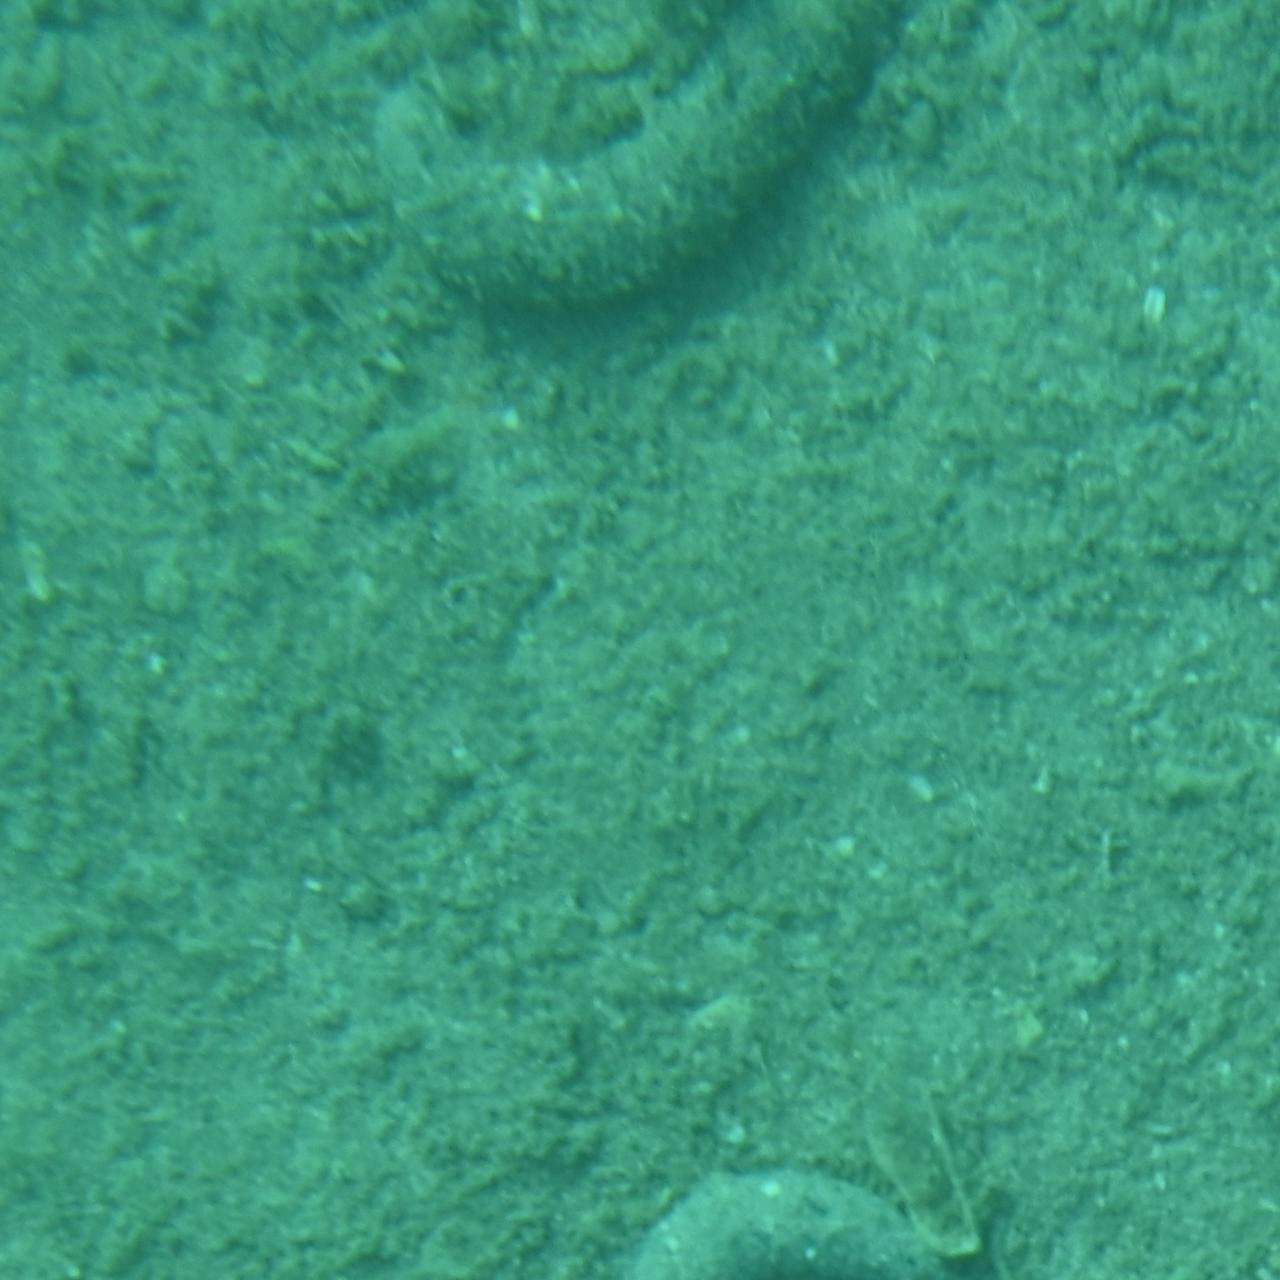Holothuria tubulosa: (366, 0, 914, 320)
